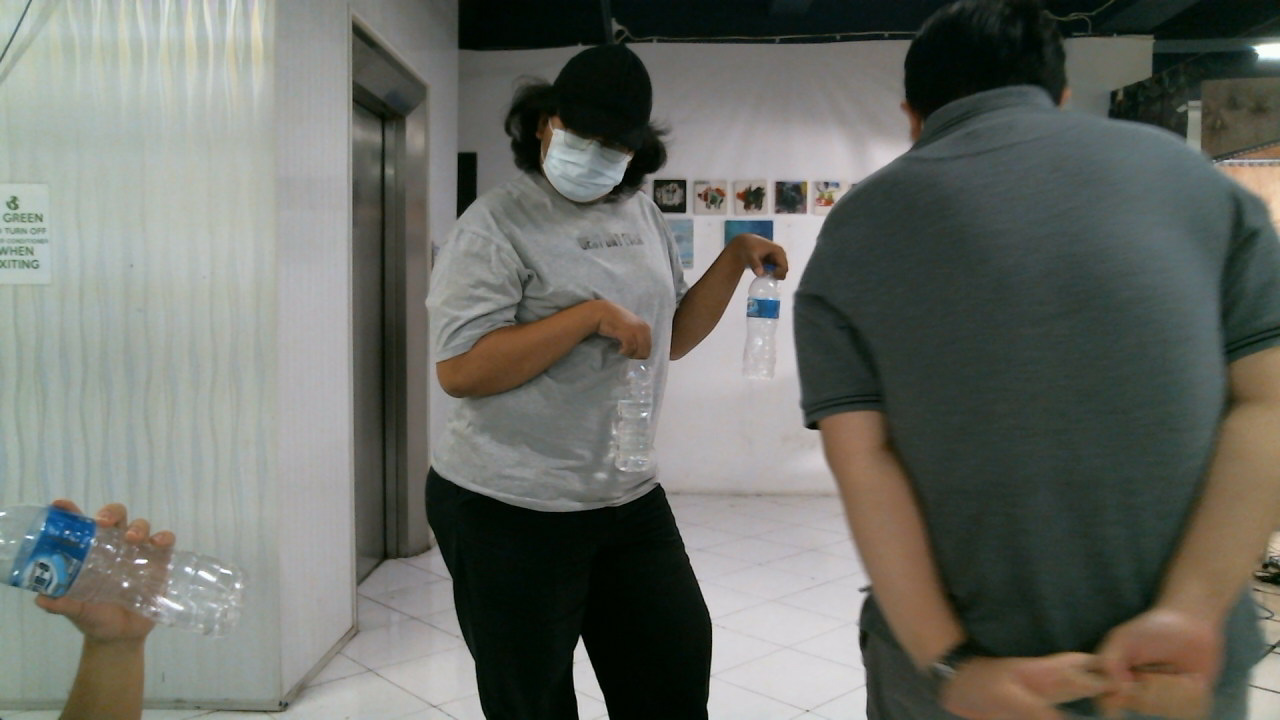Bottle: (0, 501, 247, 637), (747, 262, 780, 382)
